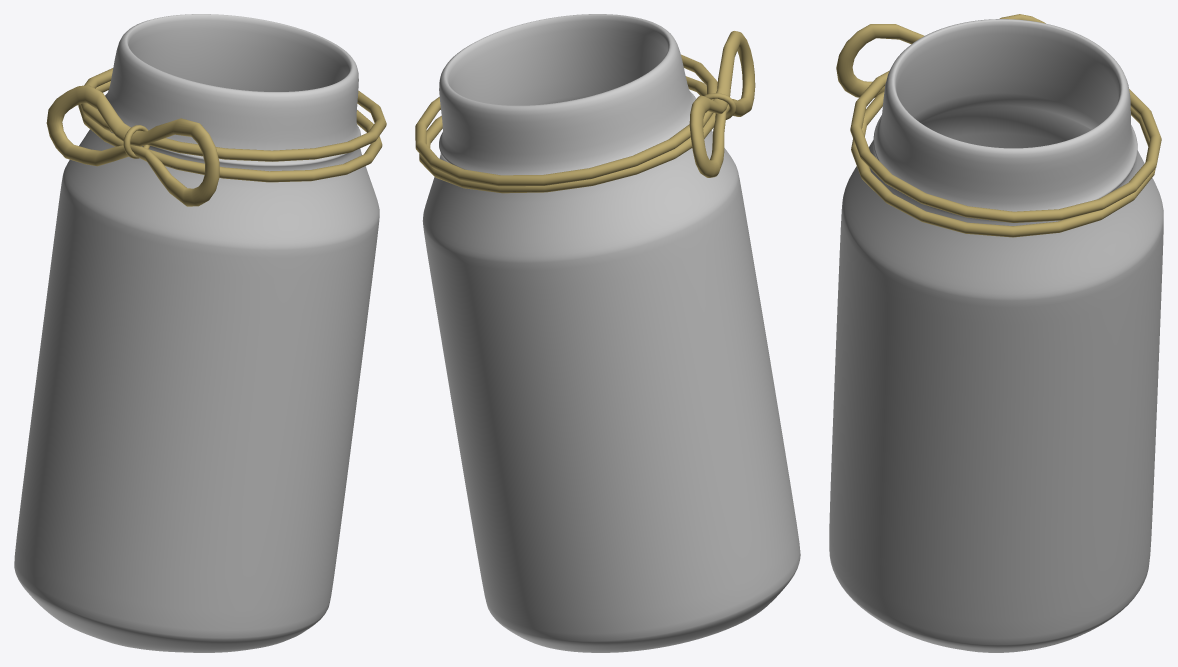
File: jar.fbx
3 renders of one model, left to right at view 1: azimuth 30°, elevation 25°; view 2: azimuth 150°, elevation 25°; view 3: azimuth 270°, elevation 25°, orthographic.
Visible parts, largest first — view 1: jar; view 2: jar; view 3: jar.
Boxes of the visible parts, left/top/right/bottom form: jar: left=14, top=14, right=386, bottom=652; jar: left=415, top=14, right=800, bottom=652; jar: left=829, top=14, right=1163, bottom=652.
Bounding box in the file's own units: 23.19 × 37.43 × 19.79.
